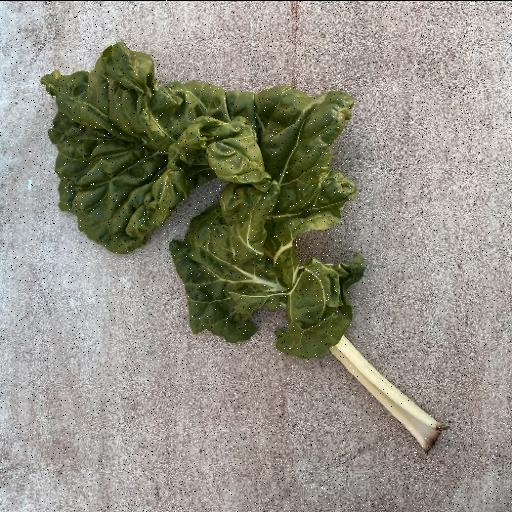Waste: (38, 40, 448, 454)
